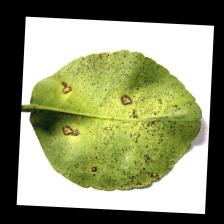canker: (48, 74, 166, 186)
